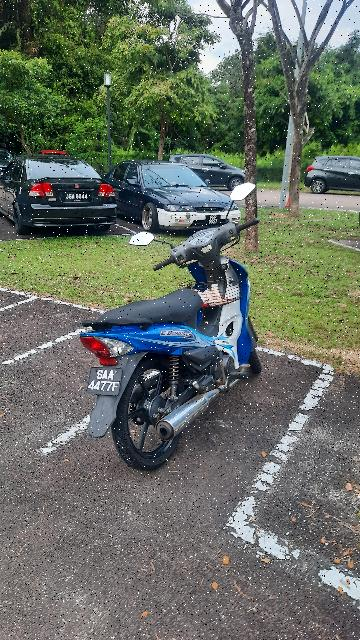License_Plate: (84, 359, 127, 399), (61, 189, 96, 204), (206, 215, 224, 225)
car: (107, 158, 247, 234), (9, 150, 117, 236)
motorcycle: (83, 179, 279, 468)
